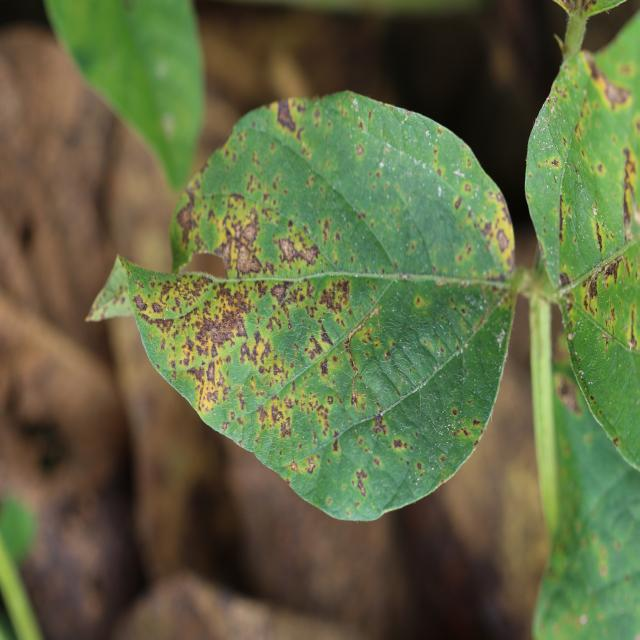Bacterial_Blight: (142, 270, 223, 323), (188, 295, 250, 358), (215, 204, 267, 275), (343, 300, 382, 388), (272, 220, 325, 270), (195, 361, 237, 418), (240, 324, 280, 372), (175, 193, 197, 250), (317, 281, 346, 314), (342, 329, 362, 375), (449, 416, 480, 444), (276, 98, 296, 131), (314, 404, 331, 437), (217, 240, 233, 268), (355, 468, 368, 497), (371, 413, 387, 435), (307, 335, 323, 357), (270, 404, 286, 425), (497, 228, 510, 253), (132, 294, 148, 313), (205, 361, 216, 383), (319, 358, 329, 376), (306, 459, 316, 474), (289, 461, 299, 472), (393, 438, 403, 449), (454, 197, 462, 210), (332, 438, 339, 452), (472, 418, 482, 427), (356, 144, 364, 155), (451, 408, 458, 417), (415, 296, 421, 306)
Soybean: (87, 91, 518, 524)
